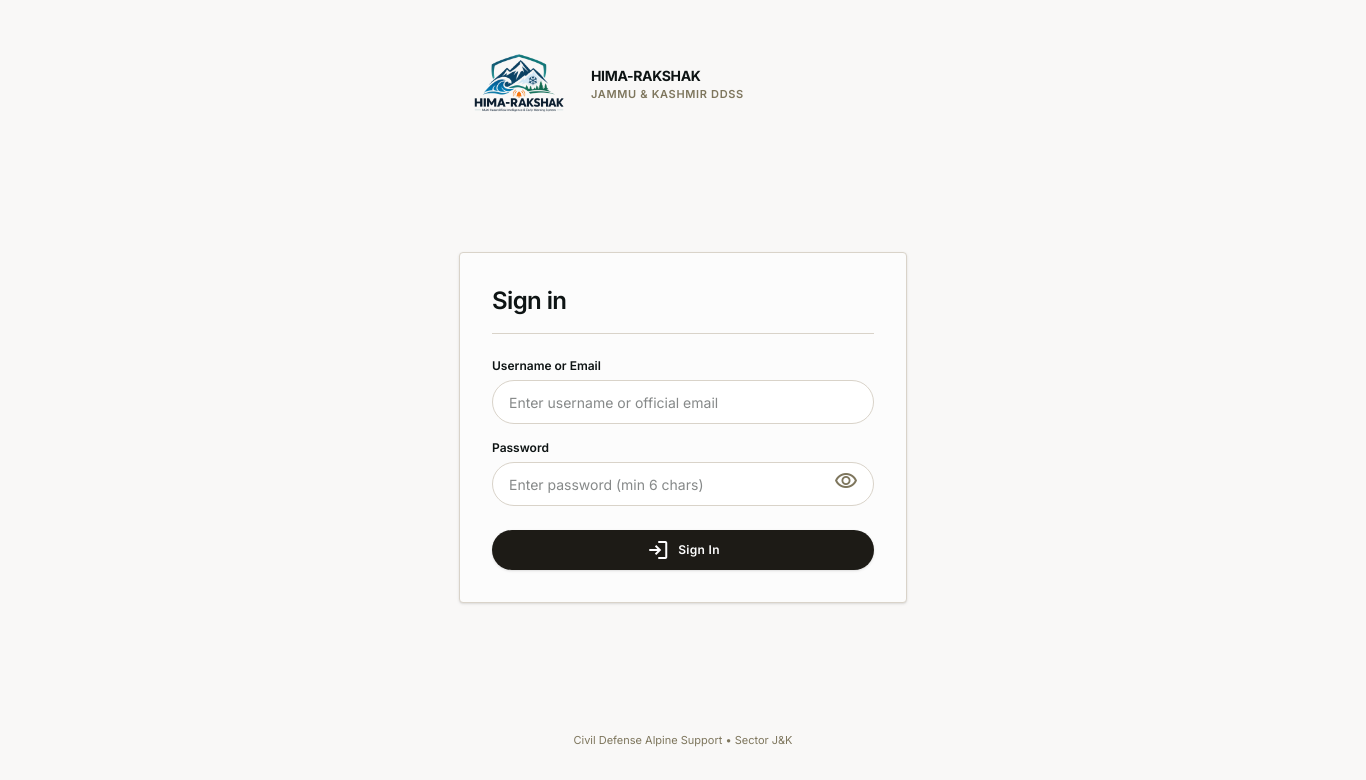
Test: LoginPage, roles, and protected routes › logs in via backend JWT API, uses server-verified role, and signs out
Type "admin-user" into the field labelled "Username or Email" at point(683, 402), box [492,380,874,424]
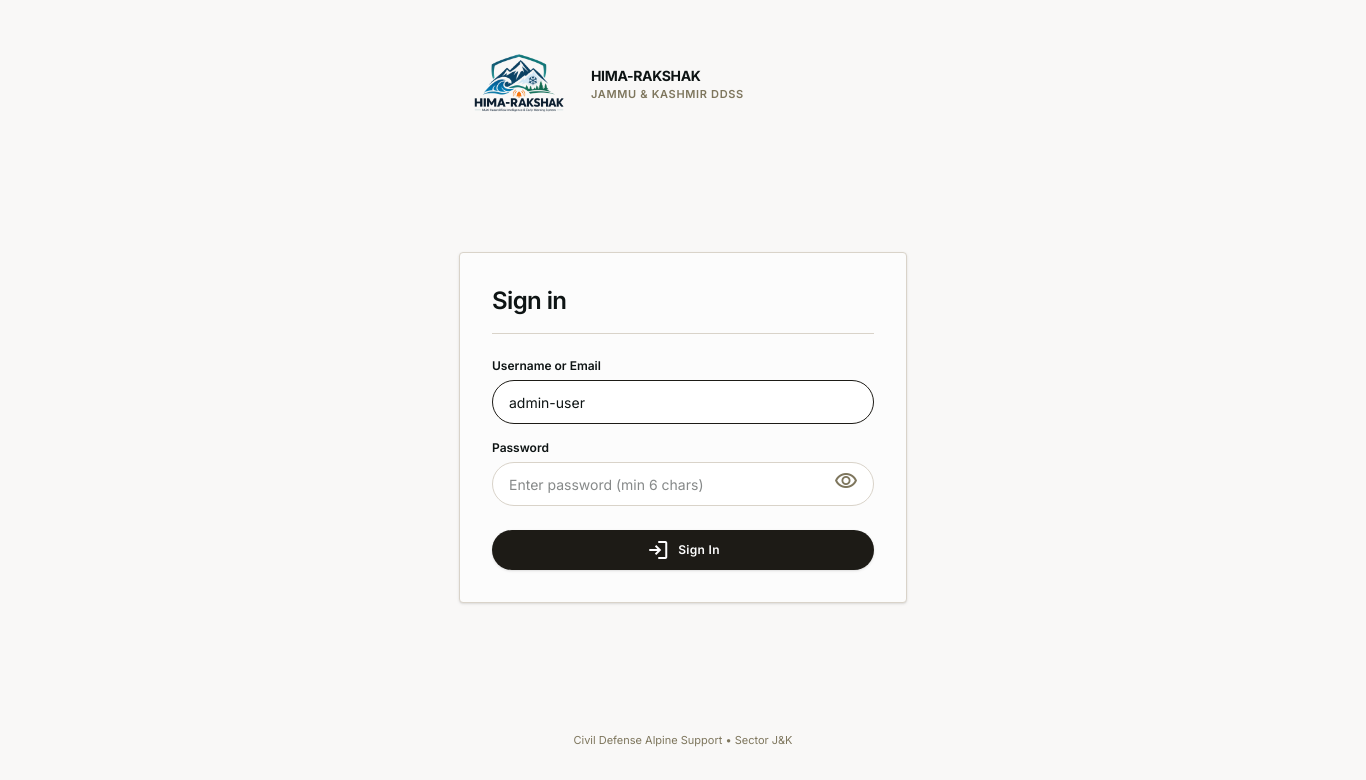
Type "test-pass-123" into the password field labelled "Password" at point(683, 484), box [492,462,874,506]
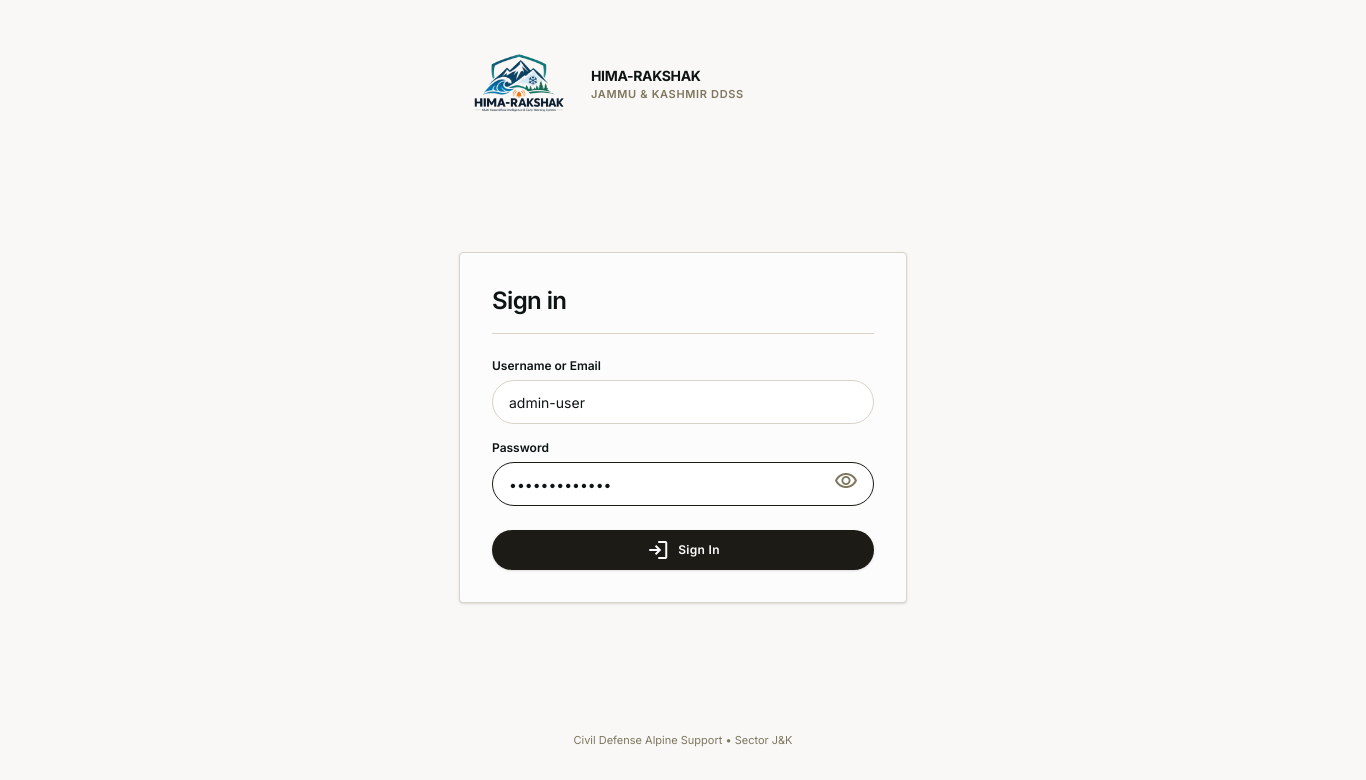
Click the button "Sign In" at point(683, 550), box [492,530,874,570]
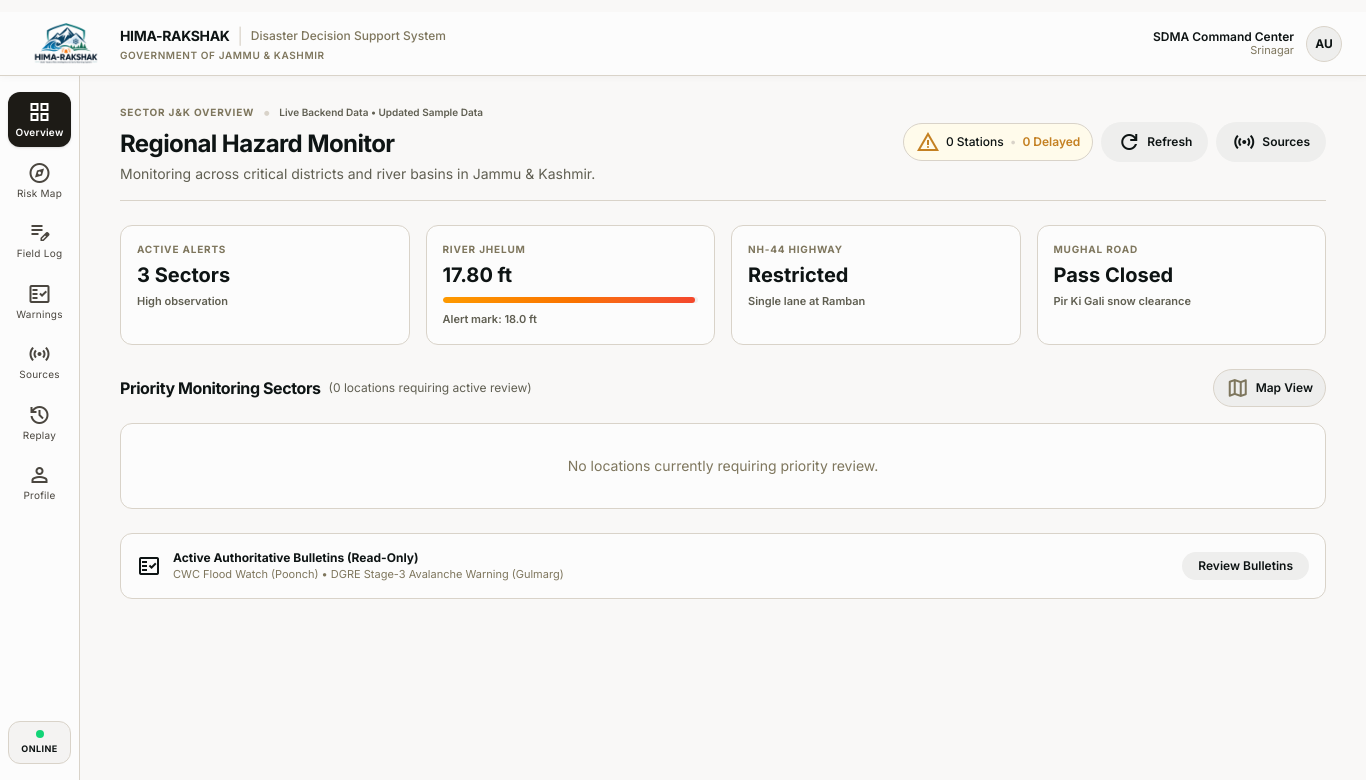
Expected: the heading "Regional Hazard Monitor" is shown, [120,129,394,158]
Expected: the text "SDMA Command Center" is shown, [1153,29,1294,44]
Click the link with aria-label "open profile and settings" at point(1324, 44), box [1306,26,1342,62]
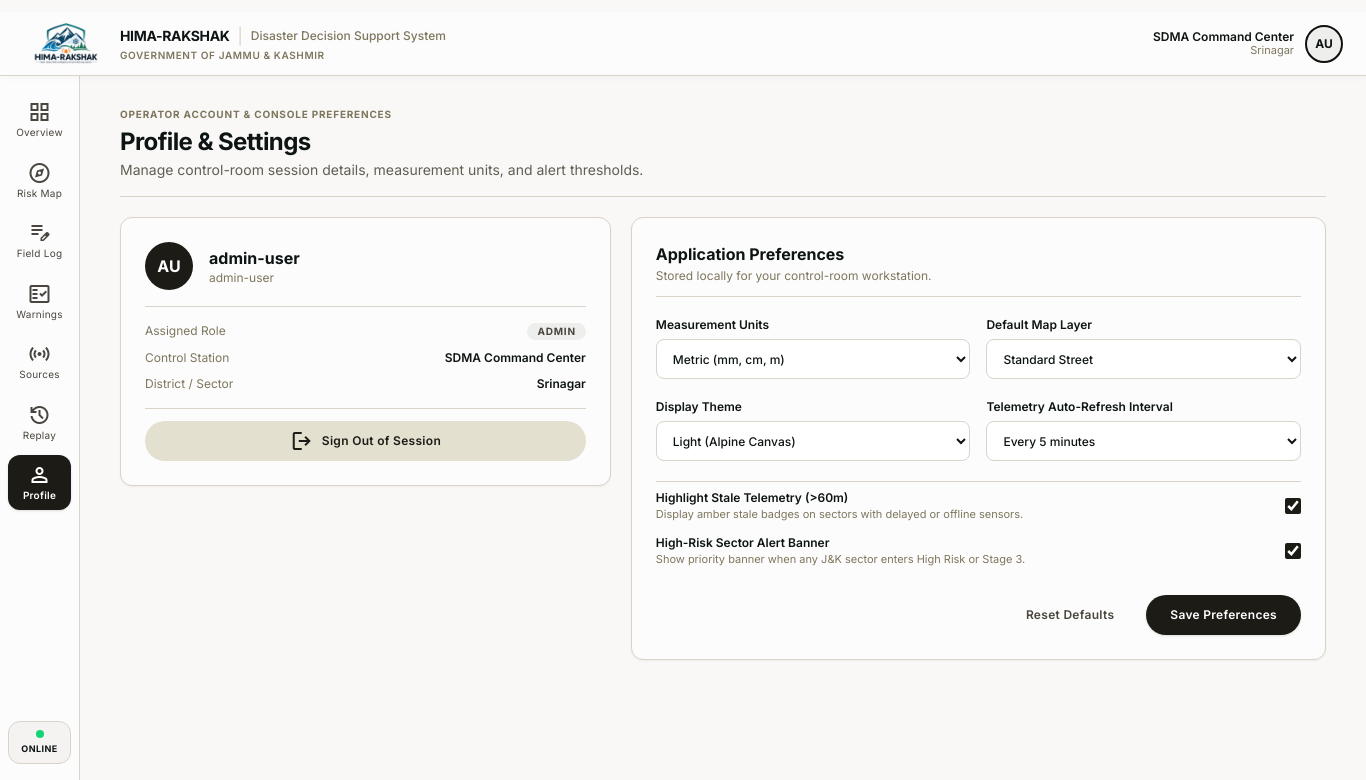
Expected: the text "admin" is shown, [527,323,586,340]
Click the button "Sign Out of Session" at point(365, 441), box [145,421,586,461]
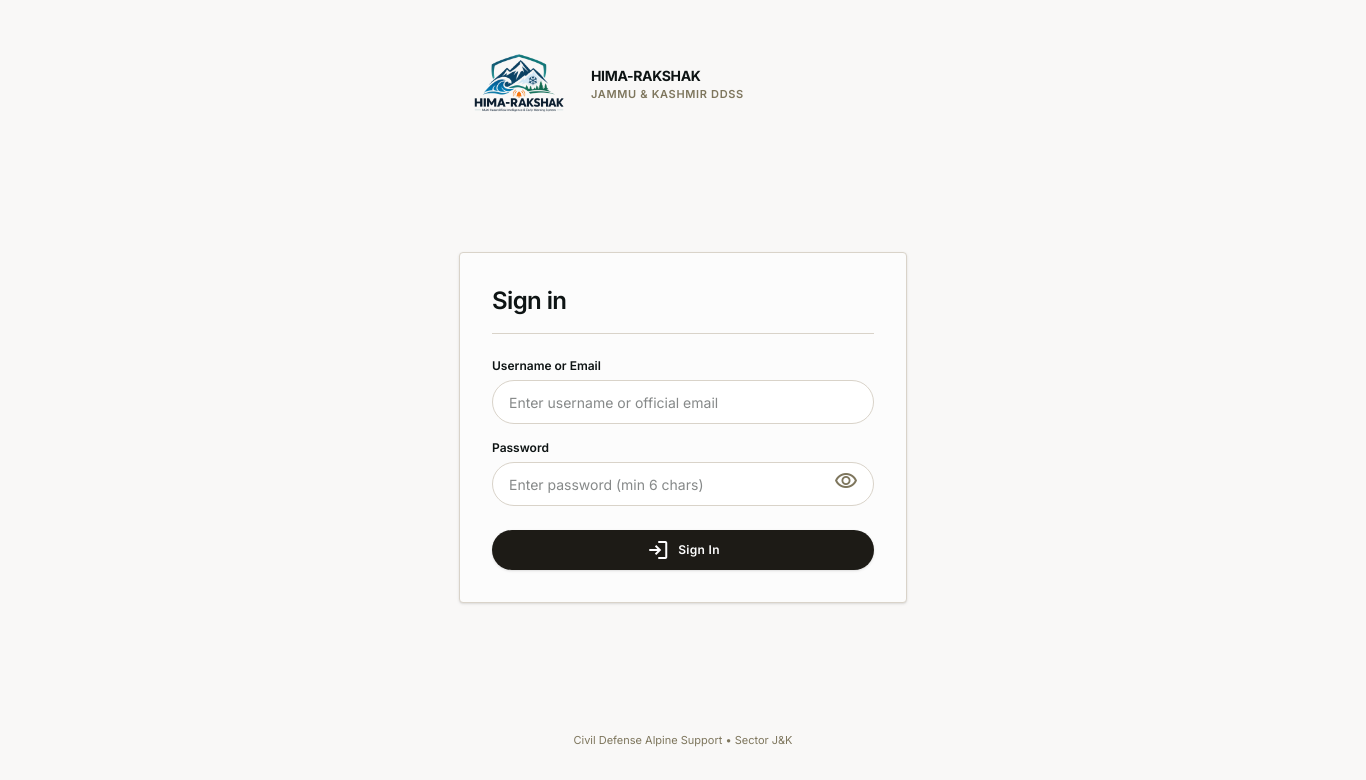
Expected: the heading "Sign in" is shown, [492,286,566,315]
